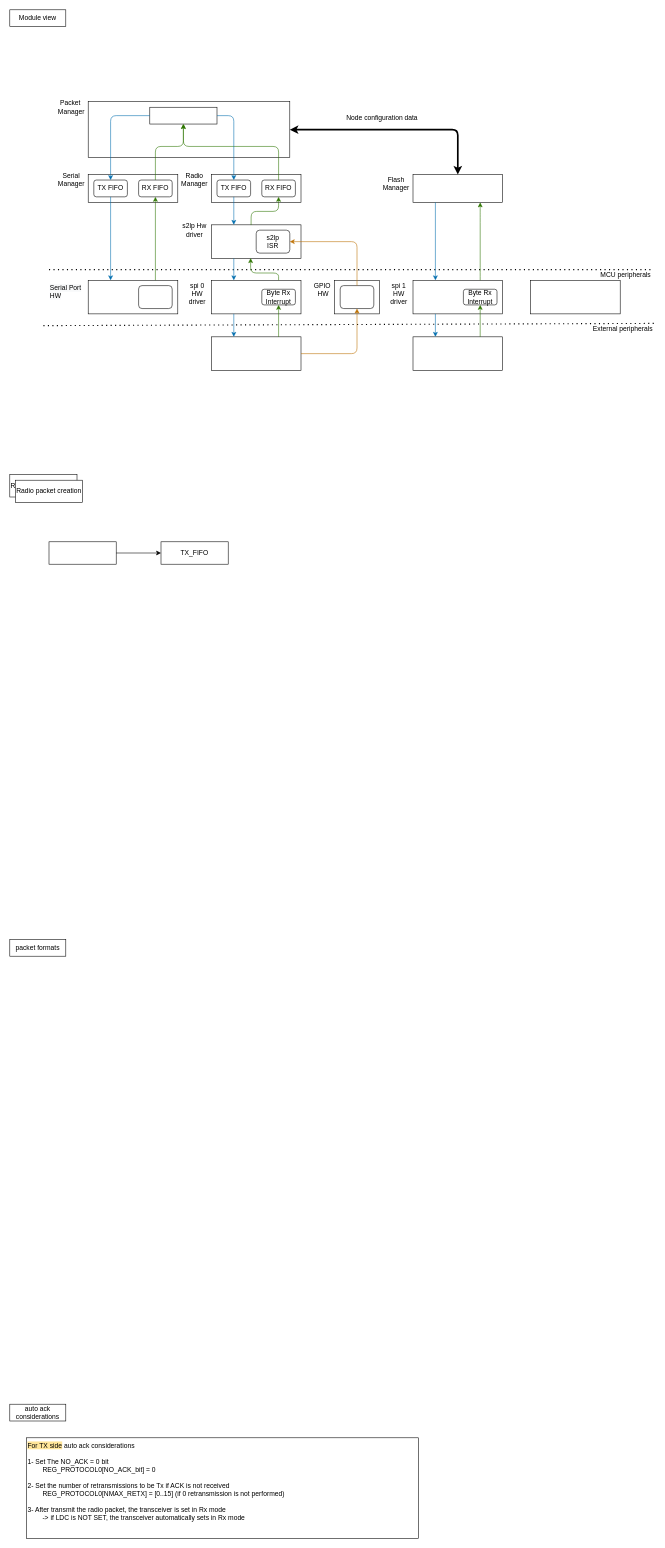
This 665x1548 diagram has some shape labels left out. Each missing label, with the centre of its shape:
"Data Payload" belongs at [82,552].
"GPIO External Interrupt" belongs at [357,297].
"MX25L128" belongs at [457,353].
"Process Packet" belongs at [183,115].
"s2lp HW" belongs at [256,353].
"UART byte Rx Interrupt" belongs at [155,297].
